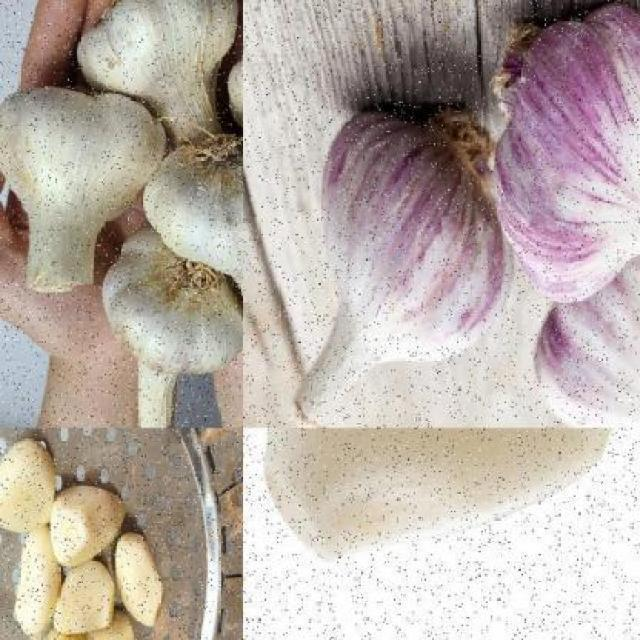garlic: (284, 90, 524, 427), (256, 428, 616, 570), (488, 0, 640, 322), (1, 81, 181, 294), (0, 428, 166, 640), (100, 227, 242, 427), (76, 0, 242, 160), (141, 128, 242, 356), (536, 233, 639, 427), (49, 484, 130, 570), (0, 433, 60, 528), (114, 528, 168, 622), (48, 560, 118, 631)
